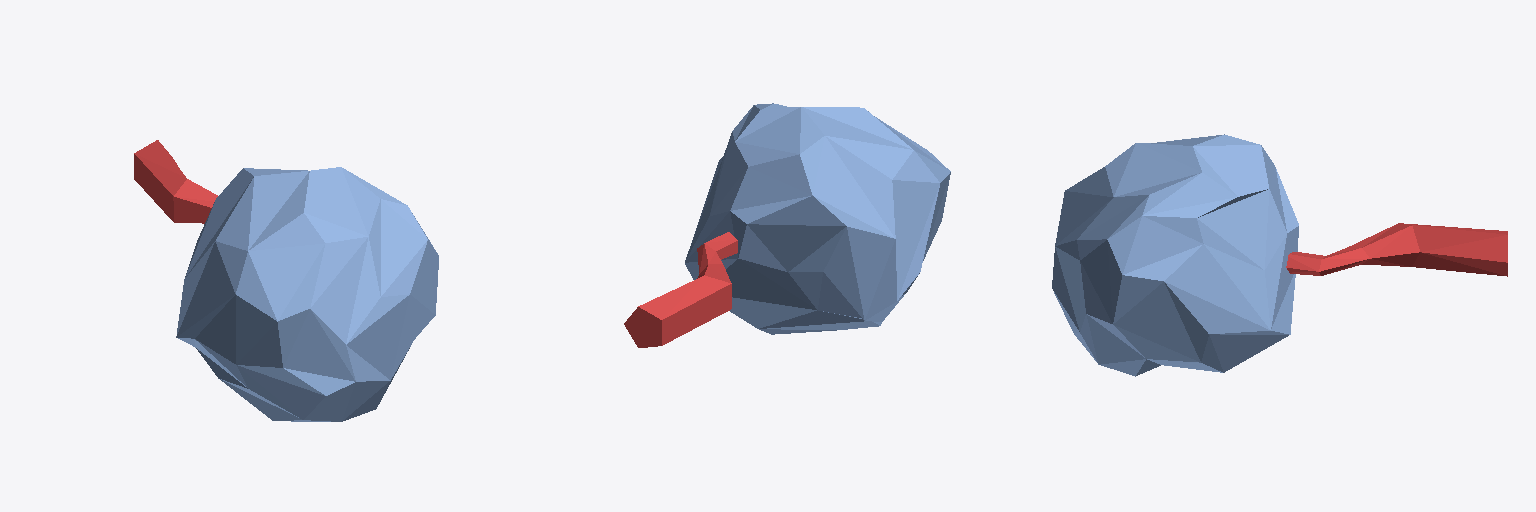
Rendered from bigtree.obj.
3 views of the same model, side by side, from view 1: azimuth 30°, elevation 25°; view 2: azimuth 150°, elevation 25°; view 3: azimuth 270°, elevation 25° (orthographic).
Visible parts, largest first — view 1: Tree_low; view 2: Tree_low; view 3: Tree_low.
Part boxes in pixels (x1,y1,x2,y2): Tree_low: (134,140,438,421); Tree_low: (624,103,950,347); Tree_low: (1052,134,1507,376).
Bounding box in the file's own units: 5.78 × 5.93 × 10.67.